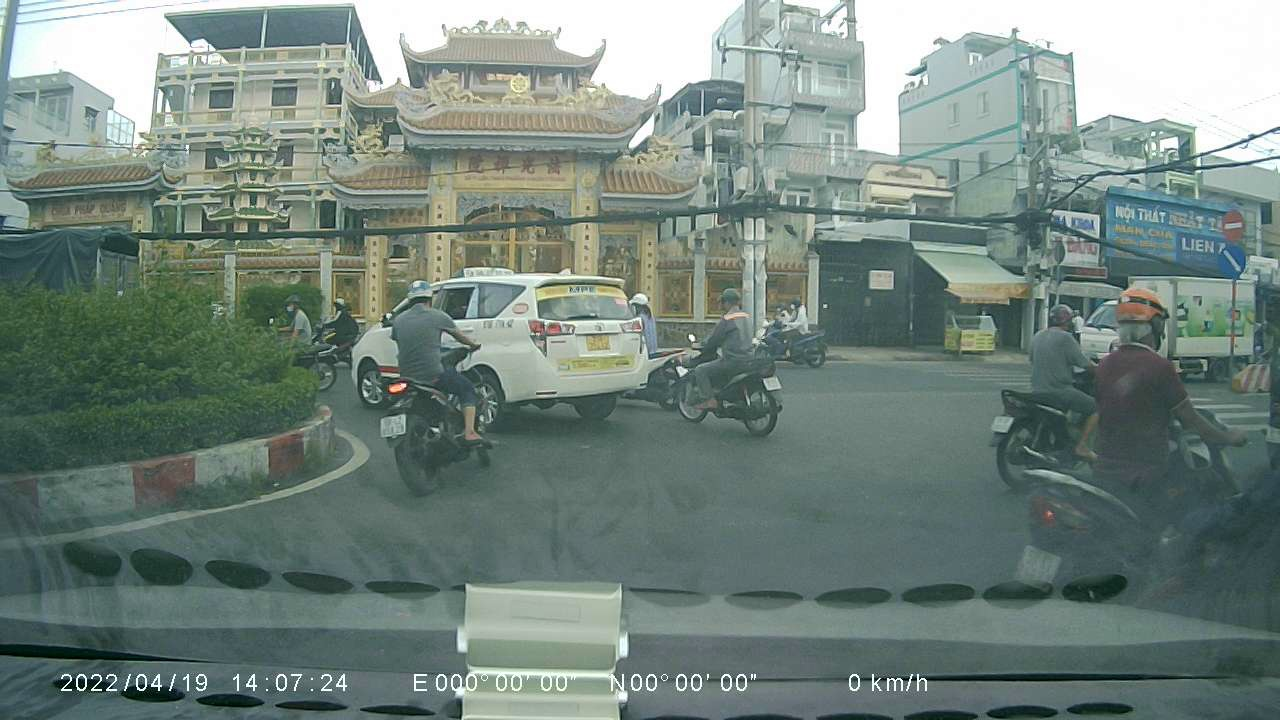Cam di nguoc chieu: (1220, 209, 1247, 240)
Huong di phai re phai: (1216, 244, 1251, 282)
